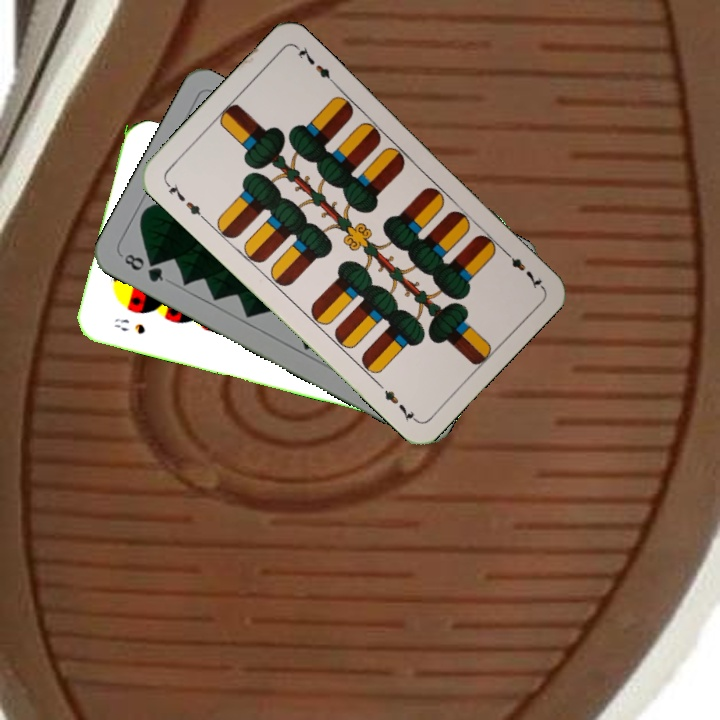E7: (498, 245, 545, 292), (161, 178, 208, 223)
G8: (118, 249, 166, 285)
S8: (110, 313, 148, 337)
